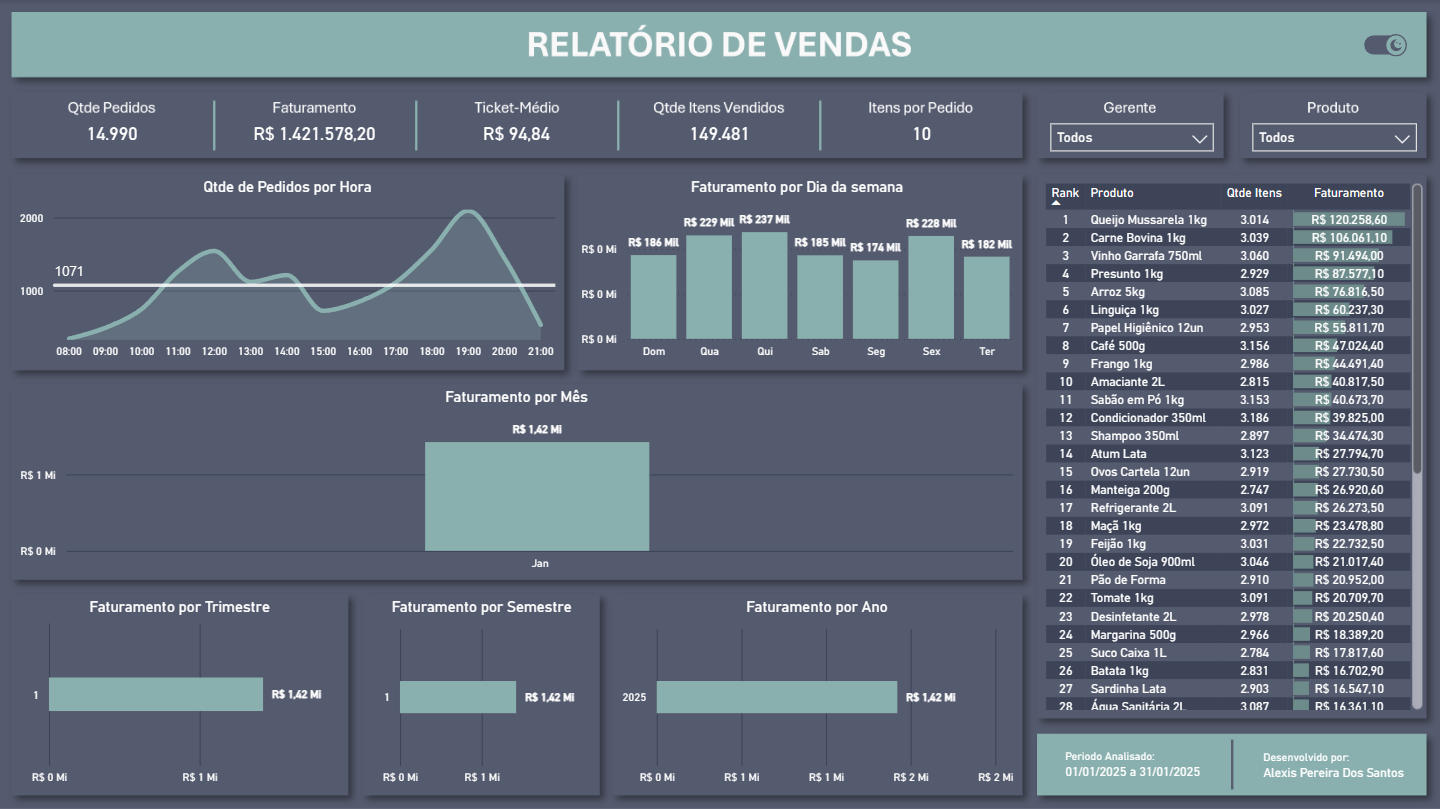

What the dashboard file says about the page in this screenshot:
{"tool":"powerbi","page":{"name":"RELATORIO_BI_Dark","canvas":[1280,720],"ordinal":1},"visuals":[{"type":"columnChart","title":"Faturamento por Dia da semana","fields":{"Category":["gold dim_calendario.dia_nome"],"Y":["gold fato_vendas.Faturamento"]},"box":[511.8,158.2,393.6,167.3],"z":0},{"type":"cardVisual","fields":{"Data":["gold fato_vendas.Faturamento"]},"box":[193.8,95,173,44],"z":1000},{"type":"cardVisual","fields":{"Data":["gold fato_vendas.QTD_PEDIDOS"]},"box":[14.7,95,172.7,44],"z":2000},{"type":"cardVisual","fields":{"Data":["gold fato_vendas.QTD_ITENS"]},"box":[553.2,95,173,44],"z":3000},{"type":"cardVisual","fields":{"Data":["gold fato_vendas.ITENS_P_PEDIDO"]},"box":[732.7,95,173.3,44],"z":4000},{"type":"cardVisual","fields":{"Data":["gold fato_vendas.TICKET_MÉDIO"]},"box":[373.3,95,173.3,44],"z":5000},{"type":"columnChart","title":"Faturamento por Mês","fields":{"Category":["gold dim_calendario.mes_abreviado"],"Y":["gold fato_vendas.Faturamento"]},"box":[14.4,343.8,891.2,169.4],"z":6000},{"type":"clusteredBarChart","title":"Faturamento por Ano","fields":{"Category":["gold dim_calendario.ano"],"Y":["gold fato_vendas.Faturamento"]},"box":[547.5,530.6,358.1,172.5],"z":7000},{"type":"clusteredBarChart","title":"Faturamento por Semestre","fields":{"Category":["gold dim_calendario.semestre"],"Y":["gold fato_vendas.Faturamento"]},"box":[325,530.6,206.9,172.5],"z":8000},{"type":"slicer","fields":{"Values":["gold dim_lojas.gerente"]},"box":[922.9,99.2,165.3,39.5],"z":9000},{"type":"slicer","fields":{"Values":["gold dim_produtos.produto"]},"box":[1101.8,99.2,165.8,39.5],"z":10000},{"type":"clusteredBarChart","title":"Faturamento por Trimestre","fields":{"Category":["gold dim_calendario.trimestre"],"Y":["gold fato_vendas.Faturamento"]},"box":[14.4,530.6,293.8,172.5],"z":11000},{"type":"image","box":[1210,30,40,20],"z":12000},{"type":"tableEx","fields":{"Values":["gold fato_vendas.RANK_PROD","gold dim_produtos.produto","gold fato_vendas.QTD_ITENS","gold fato_vendas.Faturamento"]},"box":[922.7,158.2,344.5,476.4],"z":13000},{"type":"cardVisual","fields":{"Data":["gold dim_calendario.data_inicio"]},"box":[928.7,657.2,156.7,41.4],"z":14000},{"type":"cardVisual","fields":{"Data":["gold dim_calendario.Desenvolvido"]},"box":[1105,658,161,41],"z":15000},{"type":"lineChart","title":"Qtde de Pedidos por Hora","fields":{"Category":["gold fato_vendas.inicio_hora"],"Y":["gold fato_vendas.QTD_PEDIDOS"]},"box":[14.4,158.1,485,167.5],"z":16000}]}

Visuals, with their boxes in screenshot pixels (x1, y1, x2, y2), scaled from the page's 1280x720 canvas onto the 1440x809 screenshot:
"Faturamento por Dia da semana" columnChart: pyautogui.locateOnScreen(576, 178, 1019, 366)
cardVisual - gold fato_vendas.Faturamento: pyautogui.locateOnScreen(218, 107, 413, 156)
cardVisual - gold fato_vendas.QTD_PEDIDOS: pyautogui.locateOnScreen(17, 107, 211, 156)
cardVisual - gold fato_vendas.QTD_ITENS: pyautogui.locateOnScreen(622, 107, 817, 156)
cardVisual - gold fato_vendas.ITENS_P_PEDIDO: pyautogui.locateOnScreen(824, 107, 1019, 156)
cardVisual - gold fato_vendas.TICKET_MÉDIO: pyautogui.locateOnScreen(420, 107, 615, 156)
"Faturamento por Mês" columnChart: pyautogui.locateOnScreen(16, 386, 1019, 577)
"Faturamento por Ano" clusteredBarChart: pyautogui.locateOnScreen(616, 596, 1019, 790)
"Faturamento por Semestre" clusteredBarChart: pyautogui.locateOnScreen(366, 596, 598, 790)
slicer - gold dim_lojas.gerente: pyautogui.locateOnScreen(1038, 111, 1224, 156)
slicer - gold dim_produtos.produto: pyautogui.locateOnScreen(1240, 111, 1426, 156)
"Faturamento por Trimestre" clusteredBarChart: pyautogui.locateOnScreen(16, 596, 347, 790)
image: pyautogui.locateOnScreen(1361, 34, 1406, 56)
tableEx - gold fato_vendas.RANK_PROD x gold dim_produtos.produto: pyautogui.locateOnScreen(1038, 178, 1426, 713)
cardVisual - gold dim_calendario.data_inicio: pyautogui.locateOnScreen(1045, 738, 1221, 785)
cardVisual - gold dim_calendario.Desenvolvido: pyautogui.locateOnScreen(1243, 739, 1424, 785)
"Qtde de Pedidos por Hora" lineChart: pyautogui.locateOnScreen(16, 178, 562, 366)
